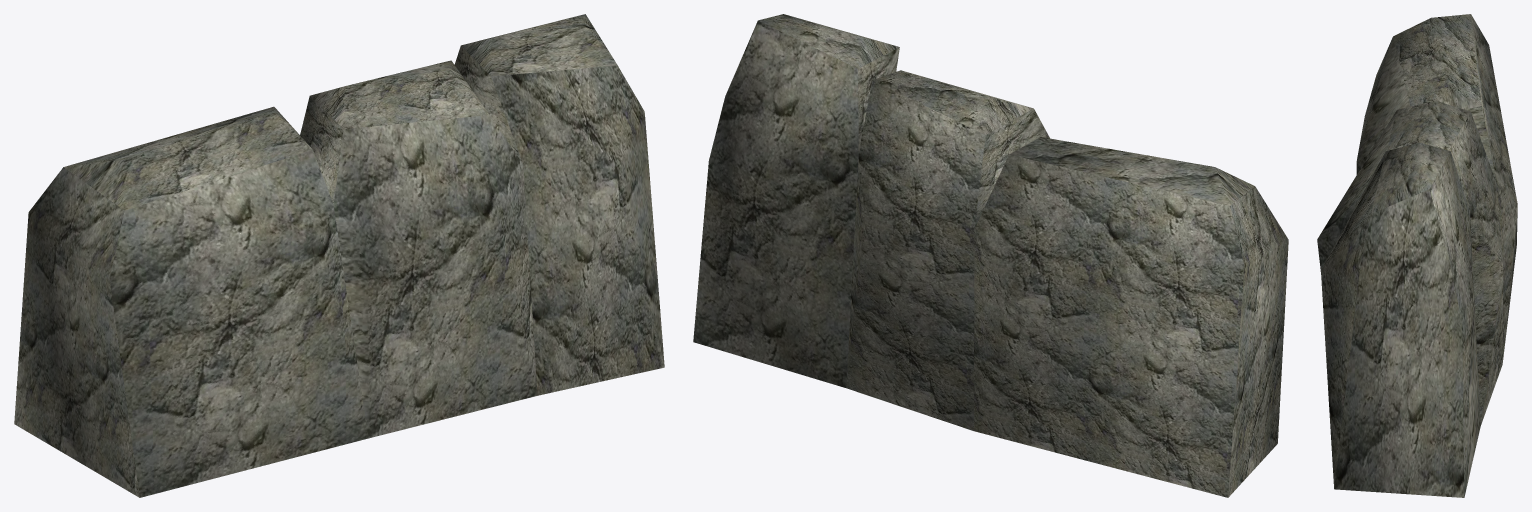
The model's file is ORC_E_WALL_02.glb.
3 renders of one model, left to right at view 1: azimuth 30°, elevation 25°; view 2: azimuth 150°, elevation 25°; view 3: azimuth 270°, elevation 25°, orthographic. The views are drawn at different scales.
Parts seen in each view (by area): view 1: Mesh; view 2: Mesh; view 3: Mesh.
Boxes of the visible parts, x1,y1,x2,y2 form: Mesh: (14, 14, 664, 497); Mesh: (693, 14, 1288, 497); Mesh: (1317, 14, 1517, 497).
Bounding box in the file's own units: 11.99 × 6.85 × 4.07.
Materials: 1 (1 with a texture image).
